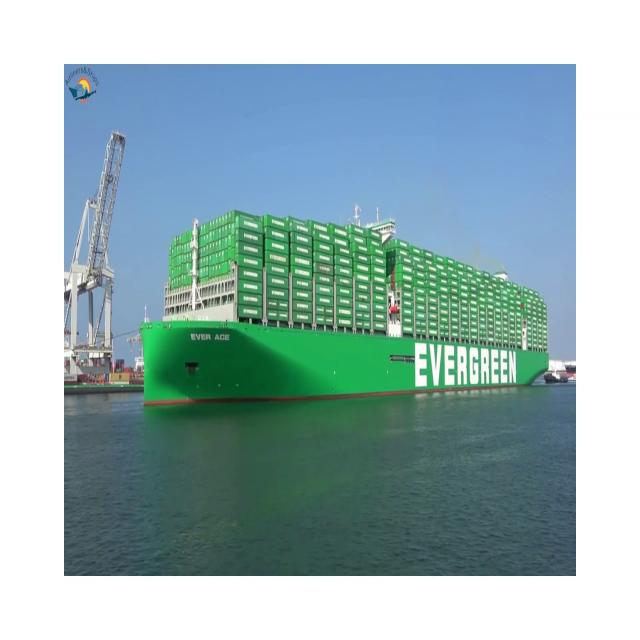OCR: (403, 330, 523, 400), (179, 322, 233, 348)
